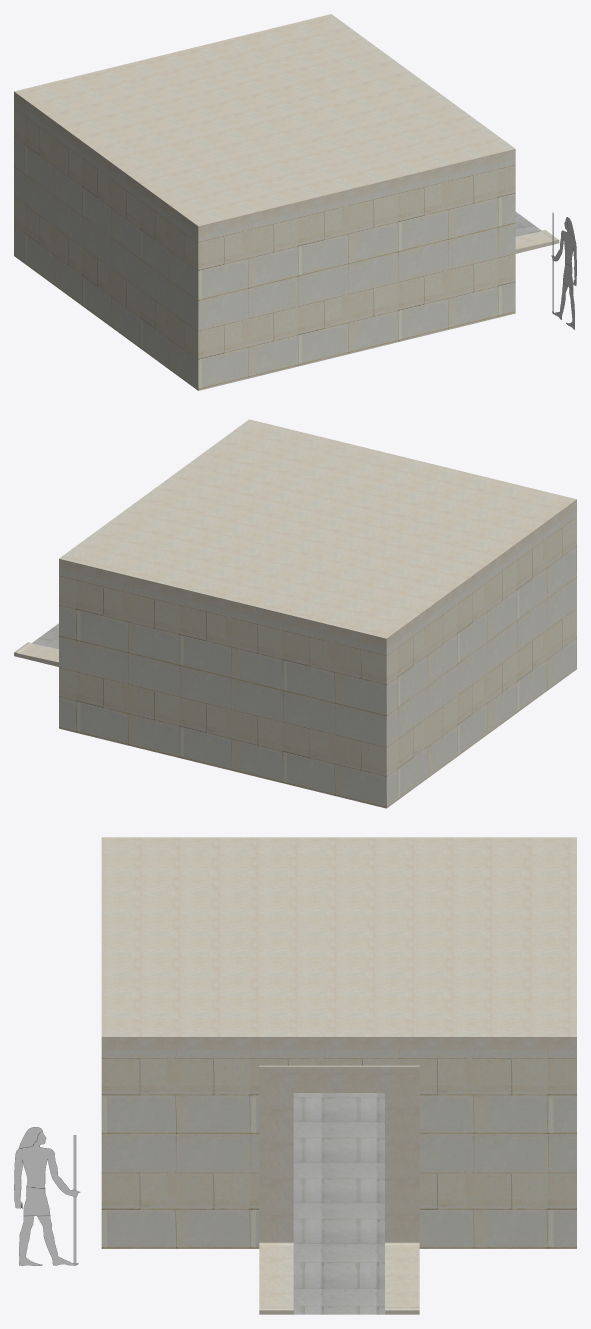
Rendered from Huy.obj.
3 renders of one model, top to bottom at view 1: azimuth 30°, elevation 25°; view 2: azimuth 150°, elevation 25°; view 3: azimuth 270°, elevation 25°, orthographic. The views are drawn at different scales.
Visible parts, largest first — view 1: Mesh1 Model, Mesh2 Model; view 2: Mesh1 Model; view 3: Mesh1 Model, Mesh2 Model.
Boxes of the visible parts, x1,y1,x2,y2 form: Mesh1 Model: (14,14,559,390); Mesh2 Model: (551,213,576,329); Mesh1 Model: (14,419,576,808); Mesh1 Model: (101,837,576,1314); Mesh2 Model: (14,1127,80,1265).
Size of the model in its own units: 6.54 by 2.44 by 5.86.
Materials: 5 (4 with a texture image).
